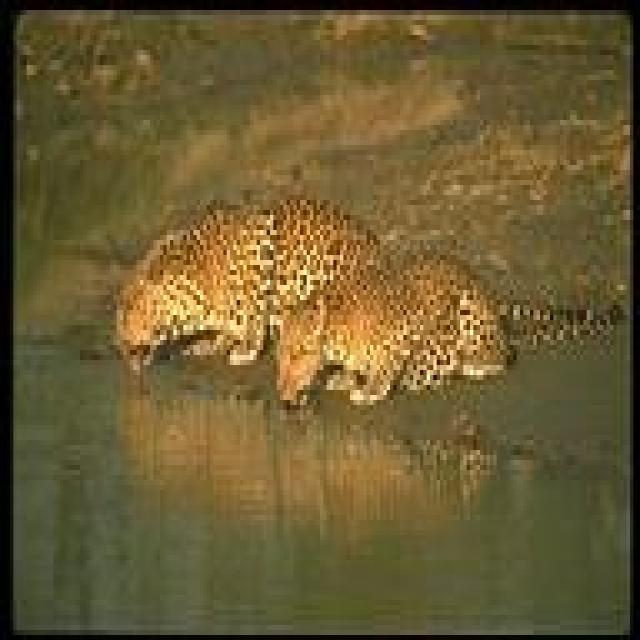Leopard: (279, 253, 622, 404)
